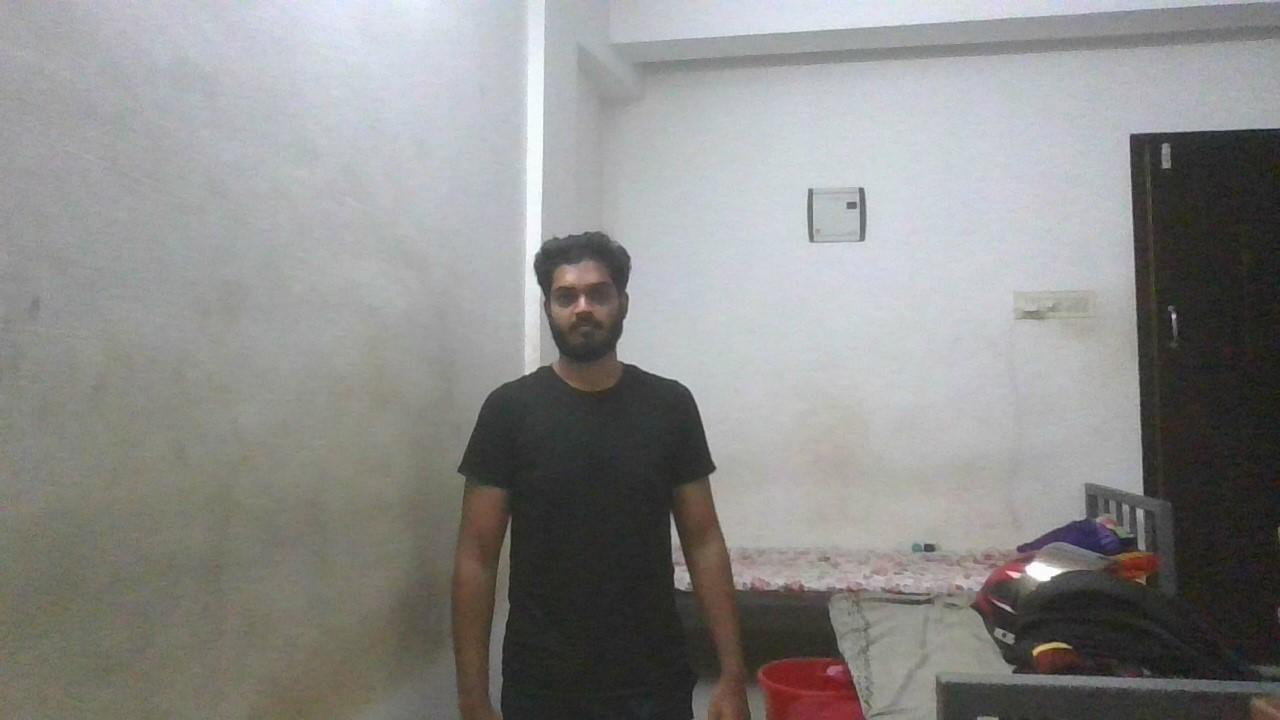nohelmet: (532, 230, 634, 368)
